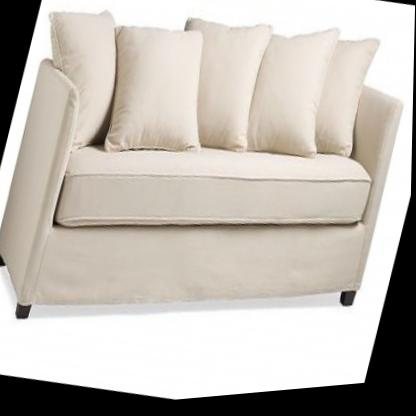Sofa: (0, 0, 416, 398)
